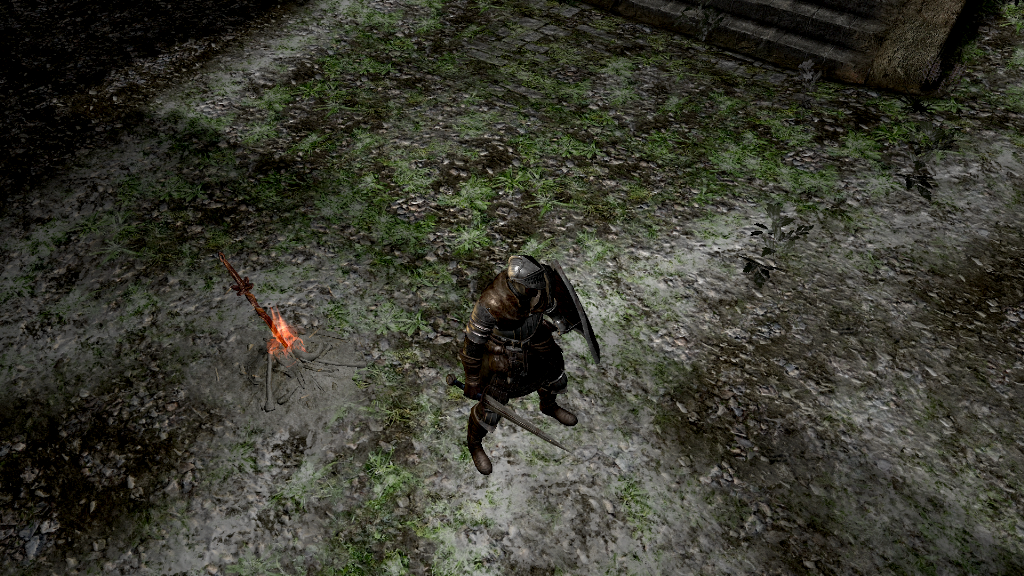bonfire: (212, 245, 312, 369)
player: (445, 253, 603, 476)
